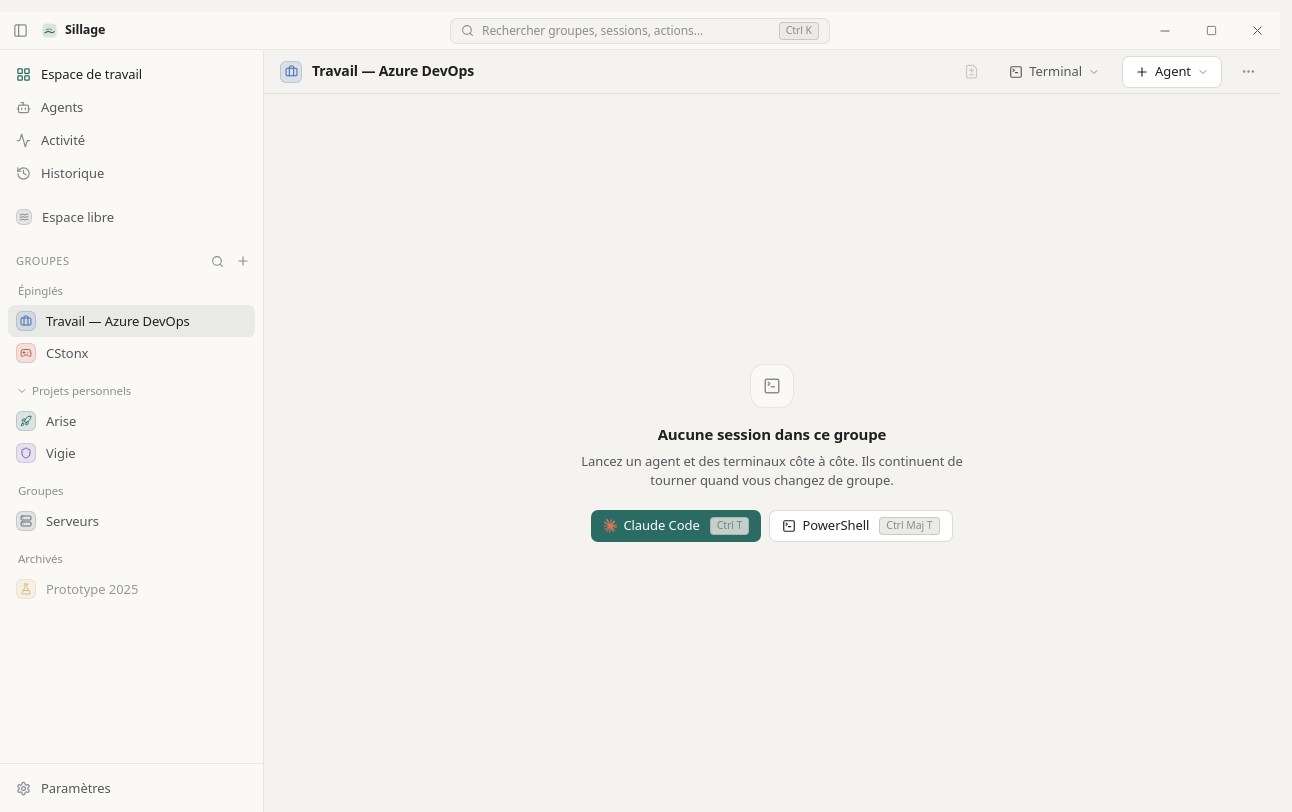
Test: App › selects another group from the sidebar
This screenshot has width=1292, height=812.
Click the list item "Vigie".
click(46, 453)  # box left=16, top=443, right=76, bottom=463
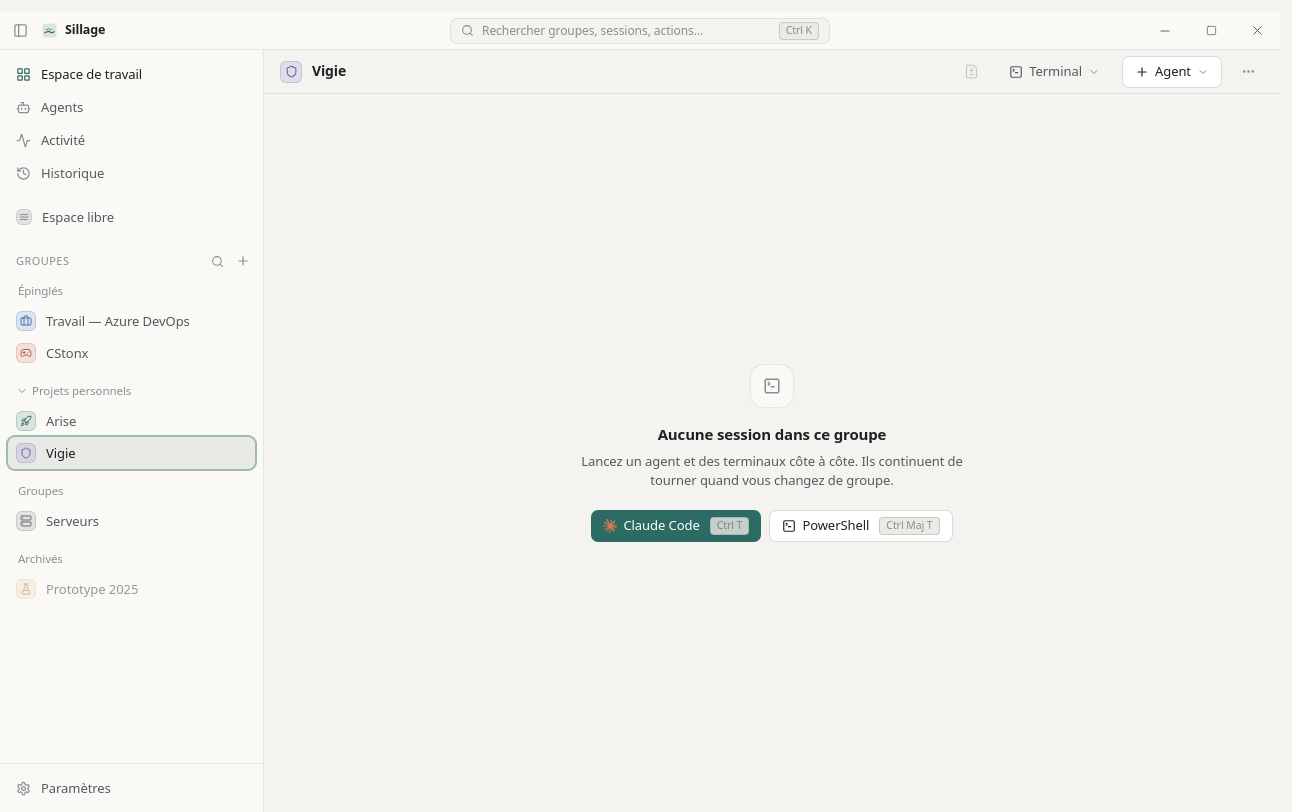
Check: the heading "Vigie" is shown, box left=312, top=61, right=346, bottom=82
